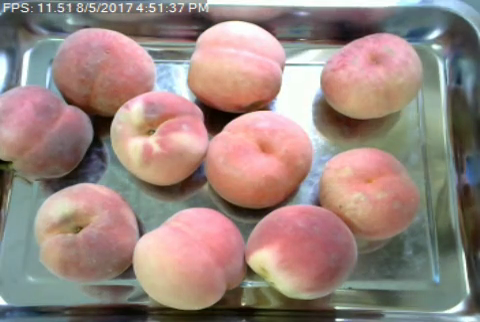Peach: (135, 207, 244, 310), (245, 203, 356, 301), (34, 182, 139, 283), (205, 110, 310, 208), (317, 146, 420, 242), (108, 88, 208, 185), (51, 26, 156, 115), (187, 17, 285, 112), (316, 32, 420, 121)
